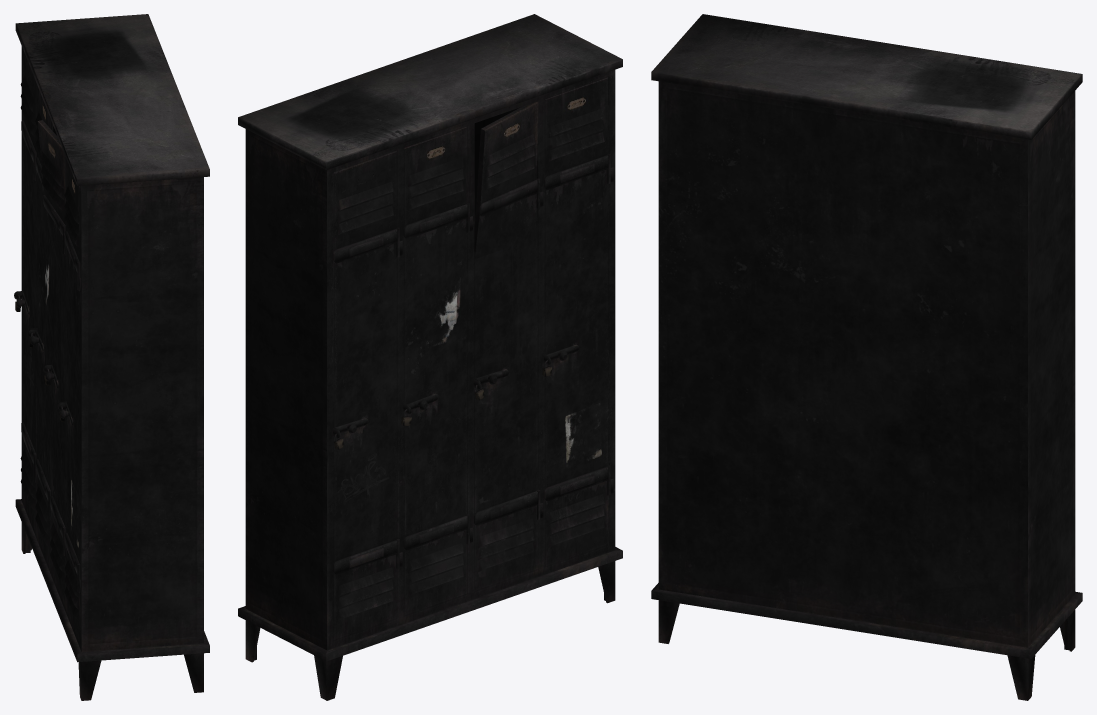
3 views of the same model, side by side, from view 1: azimuth 30°, elevation 25°; view 2: azimuth 150°, elevation 25°; view 3: azimuth 270°, elevation 25° (orthographic). The views are drawn at different scales.
Parts seen in each view (by area): view 1: desirefx.me_001; view 2: desirefx.me_001; view 3: desirefx.me_001.
Boxes of the visible parts, <box> form: desirefx.me_001: <box>14,14,209,700</box>; desirefx.me_001: <box>238,14,622,700</box>; desirefx.me_001: <box>651,14,1082,700</box>.
Size of the model in its own units: 0.038 by 0.0859 by 0.0587.
Materials: 1 (1 with a texture image).
